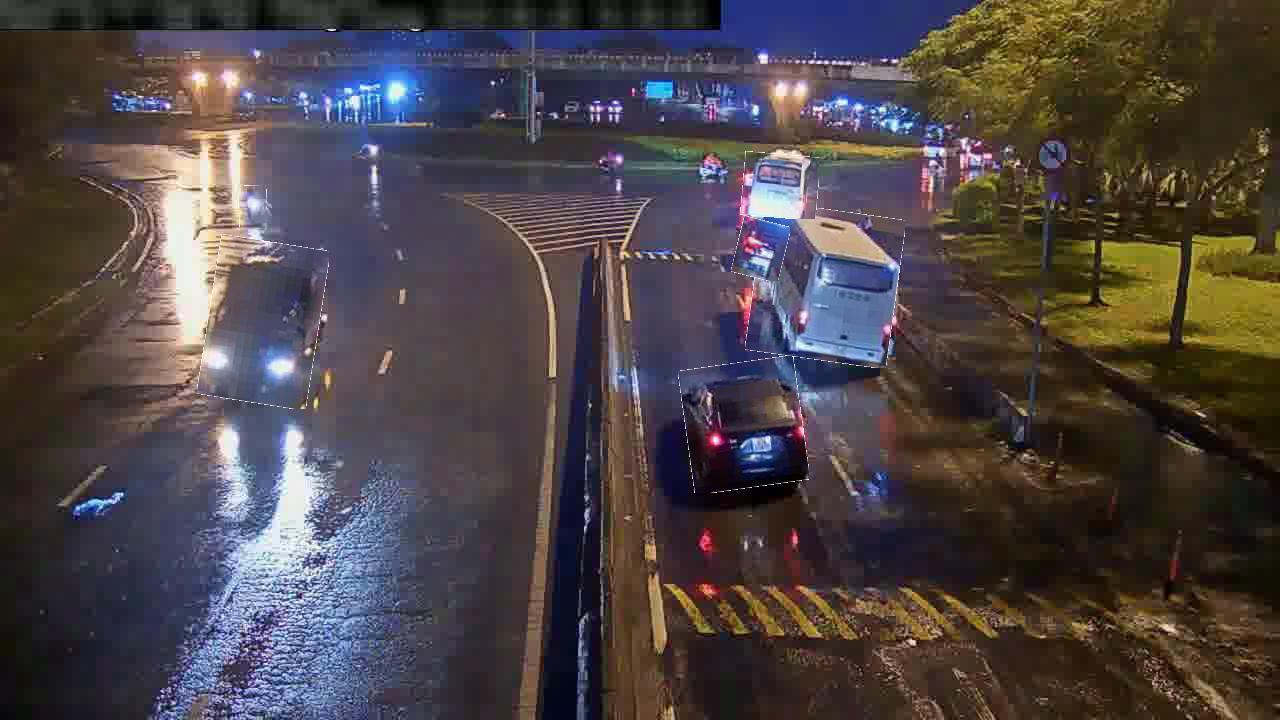14: (750, 206, 902, 365), (742, 153, 819, 219)
8: (203, 238, 325, 407)
container: (682, 359, 806, 491), (734, 219, 788, 280)
motorbike: (238, 186, 268, 230)
